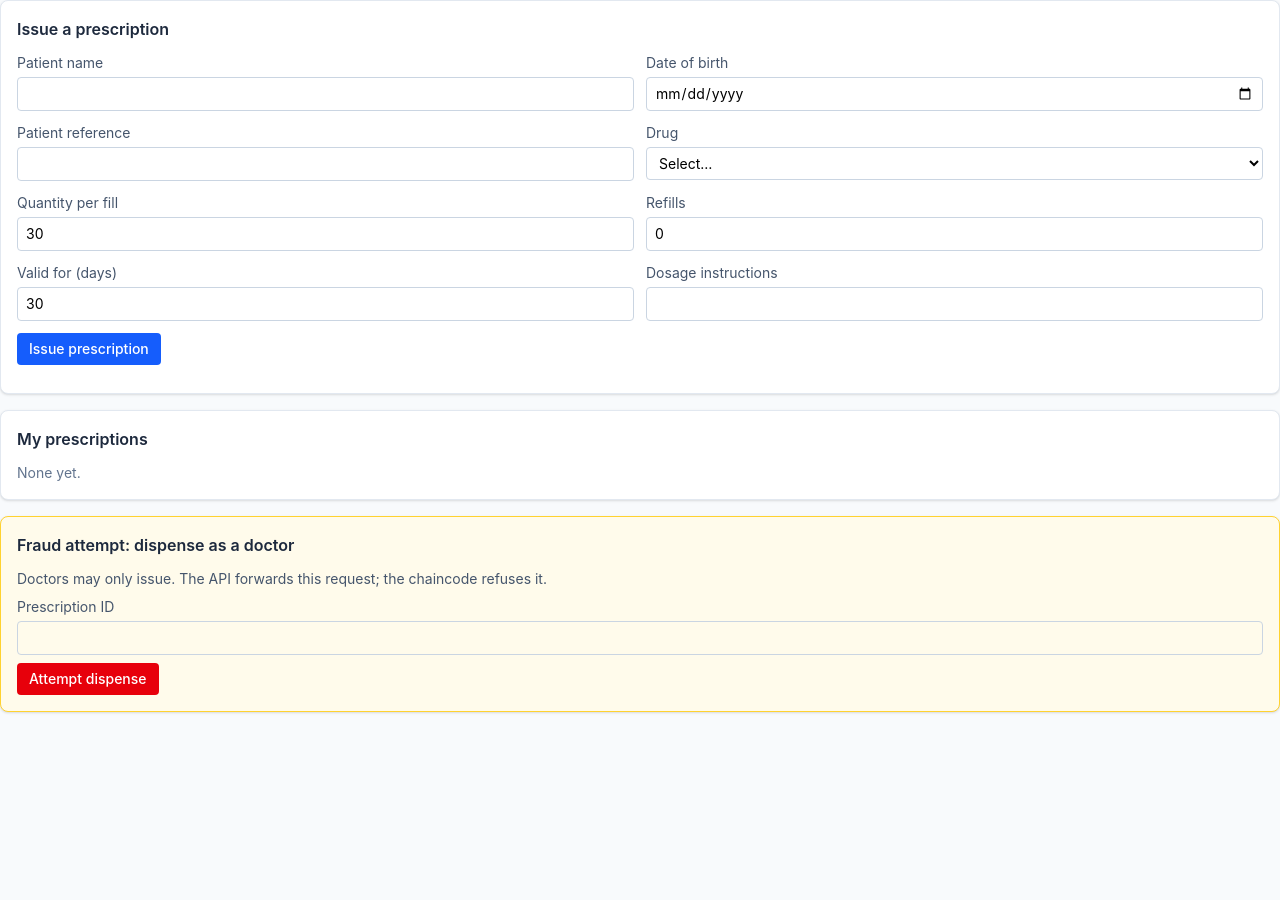
DoctorView › issues a prescription with numeric fields and shows the new ID
Select "Morphine sulfate 10 mg tablet — NDPS (max 0 refills)" in the dropdown labelled "Drug" at (954, 164), box [646,147,1263,180]
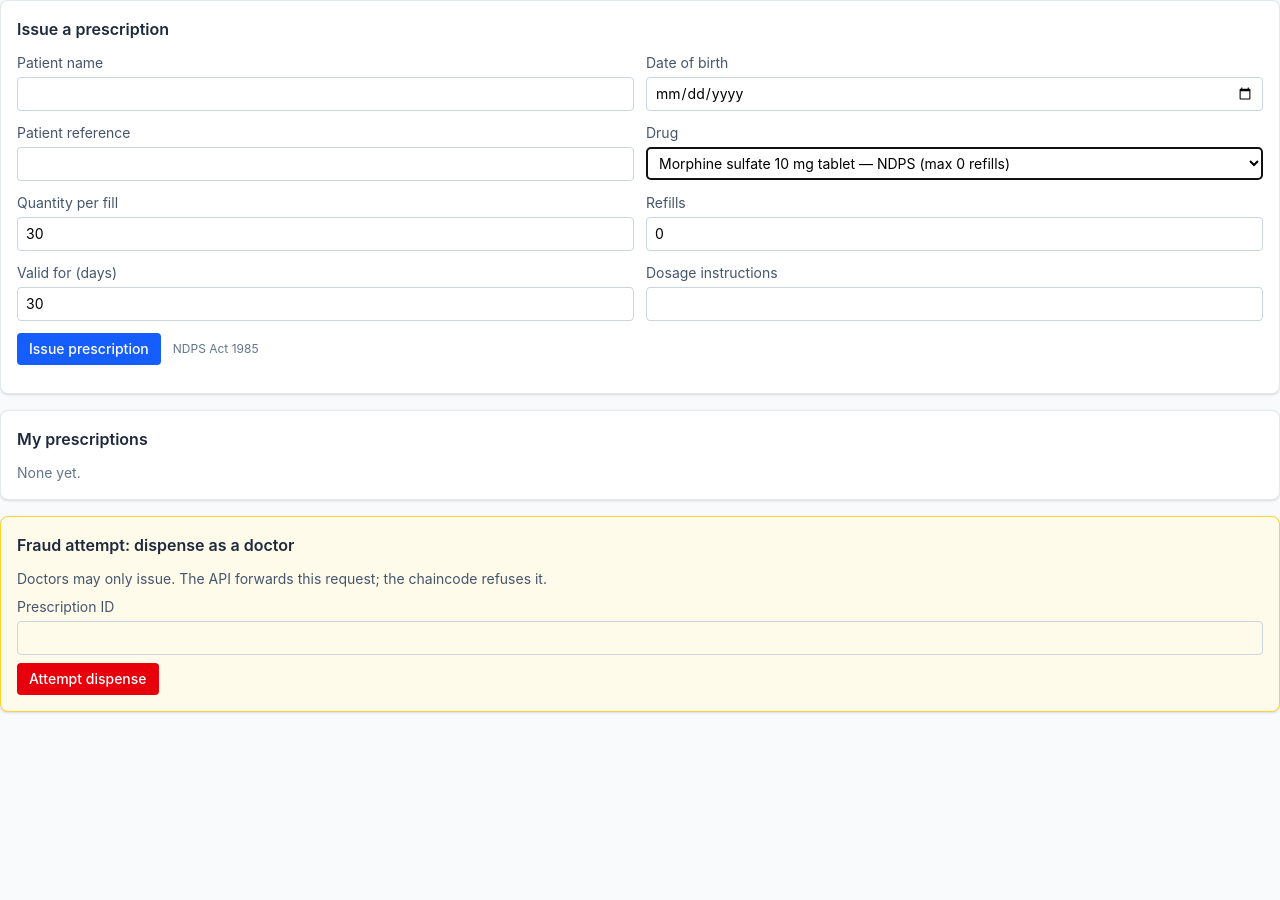
Type "Priya Sharma" into the field labelled "Patient name" at (326, 94), box [17,77,634,111]
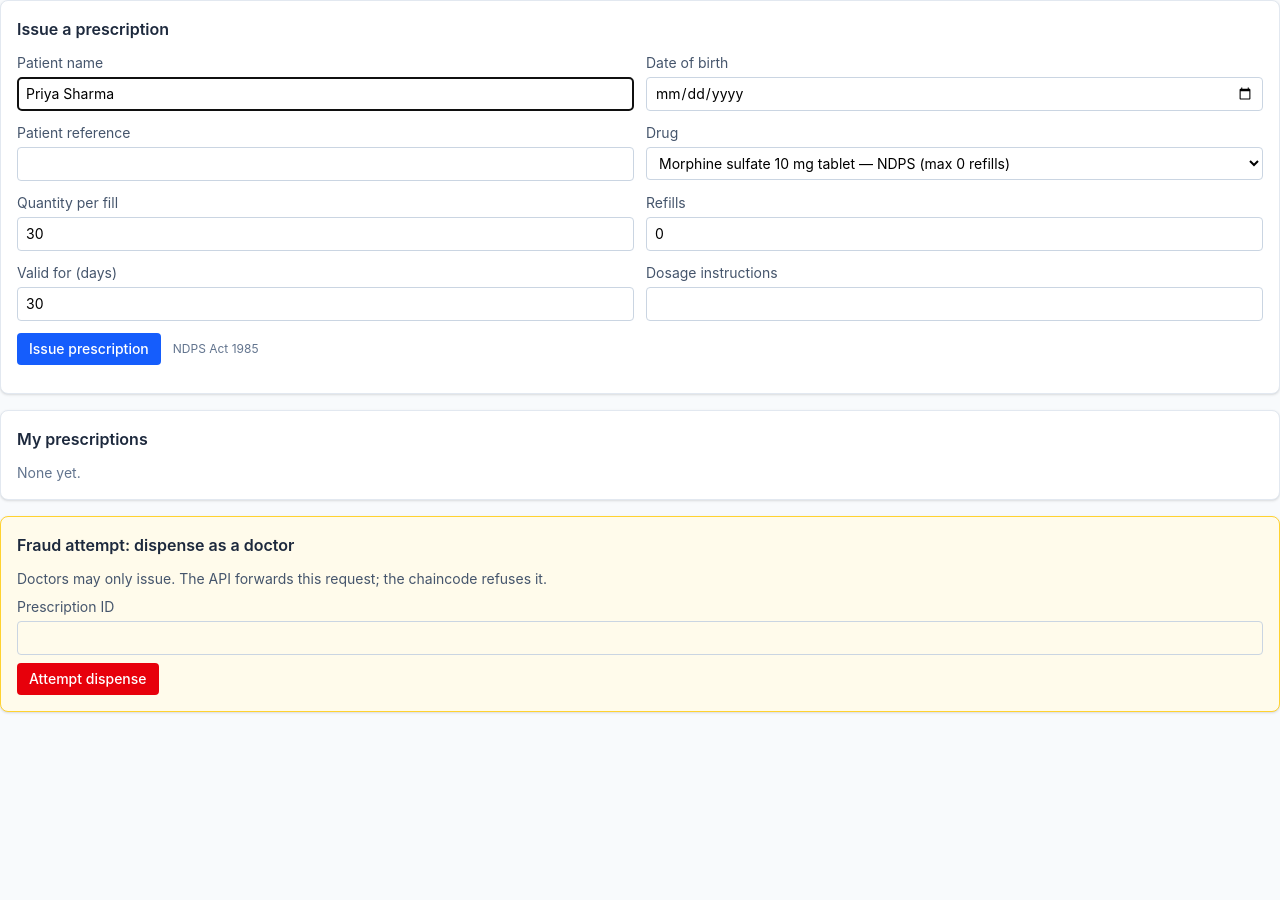
Type "1985-03-12" into the date field labelled "Date of birth" at (954, 94), box [646,77,1263,111]
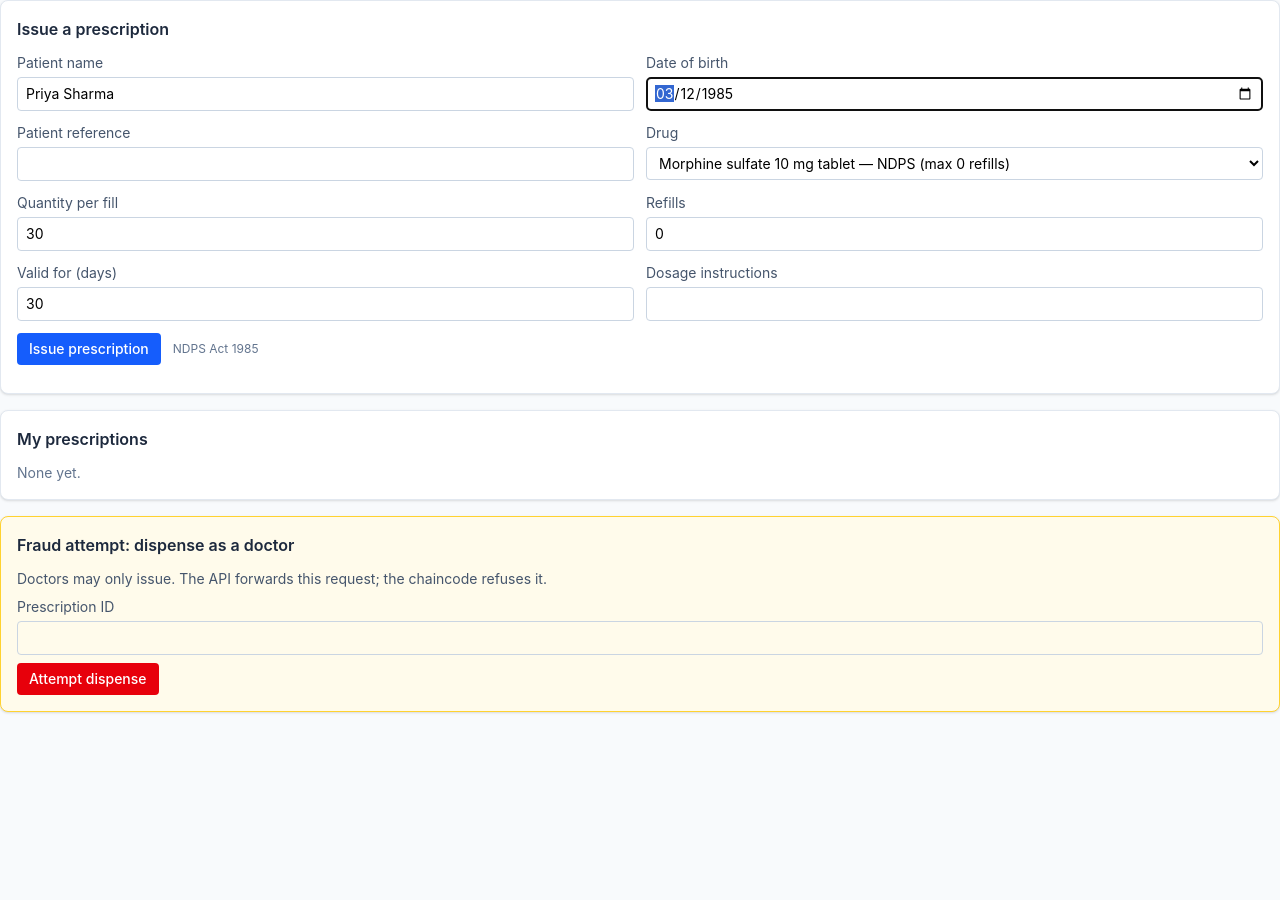
Type "PT-4471" into the field labelled "Patient reference" at (326, 164), box [17,147,634,181]
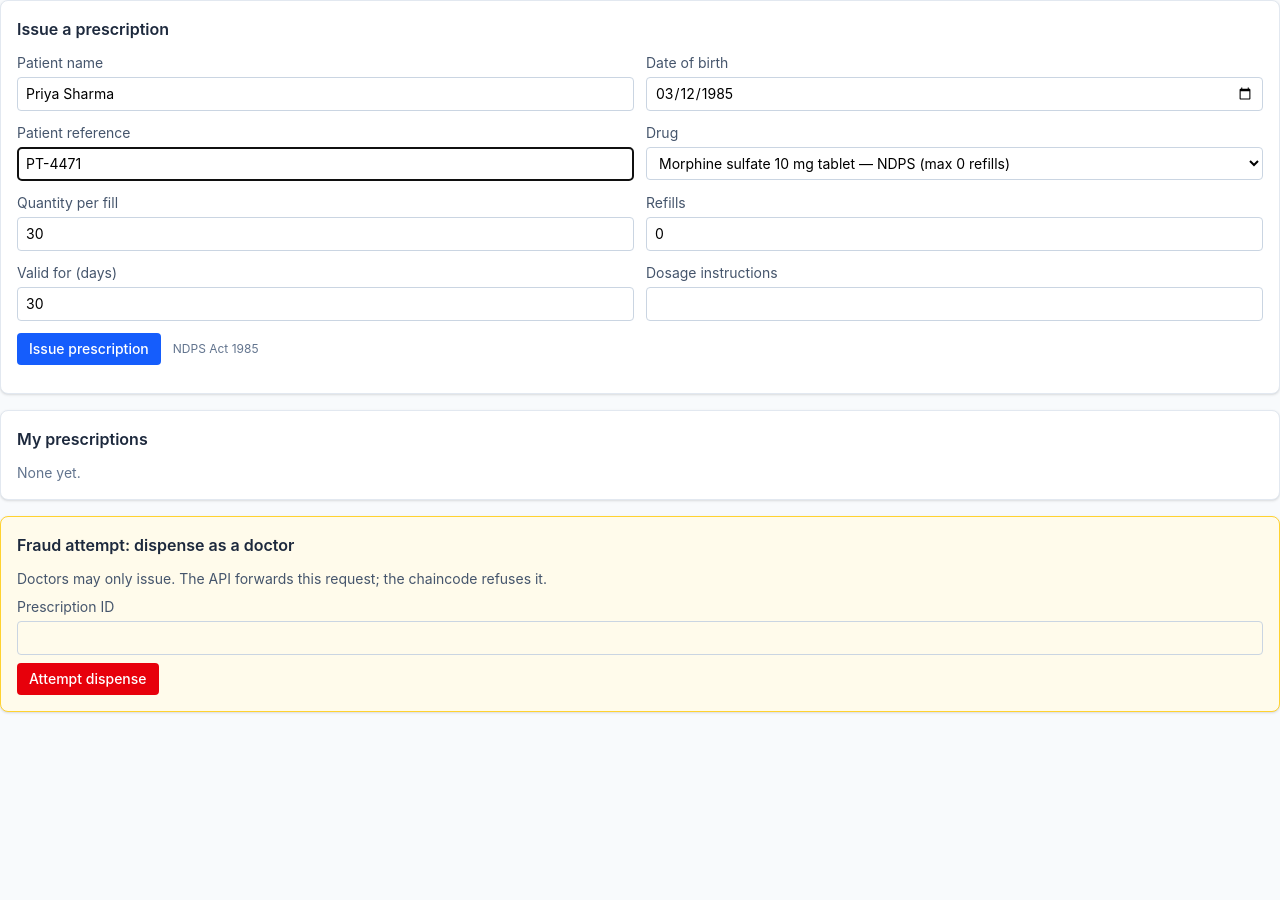
Type "1 tablet every 12 hours" into the field labelled "Dosage instructions" at (954, 304), box [646,287,1263,321]
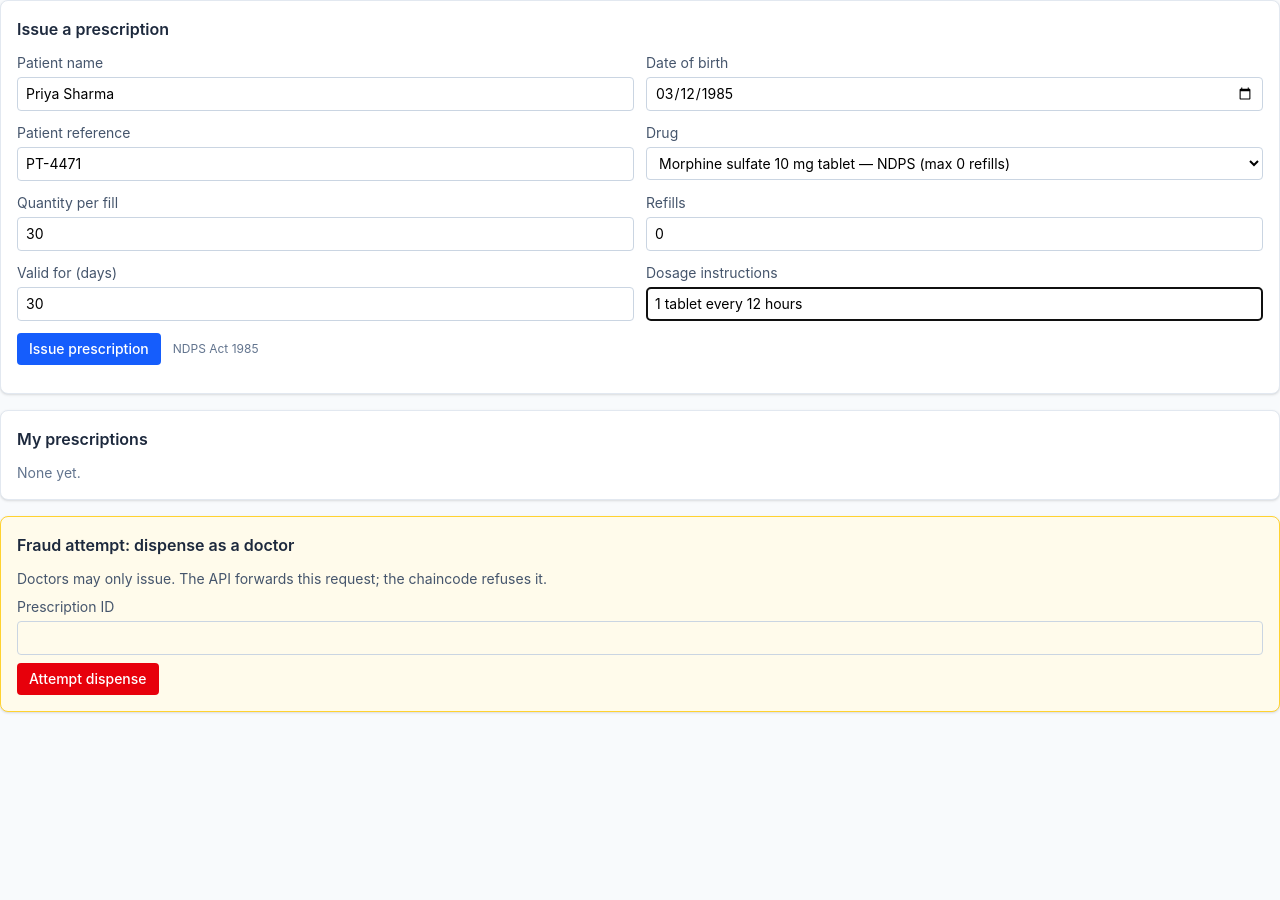
Click the button "Issue prescription" at (89, 349), box [17,333,161,365]
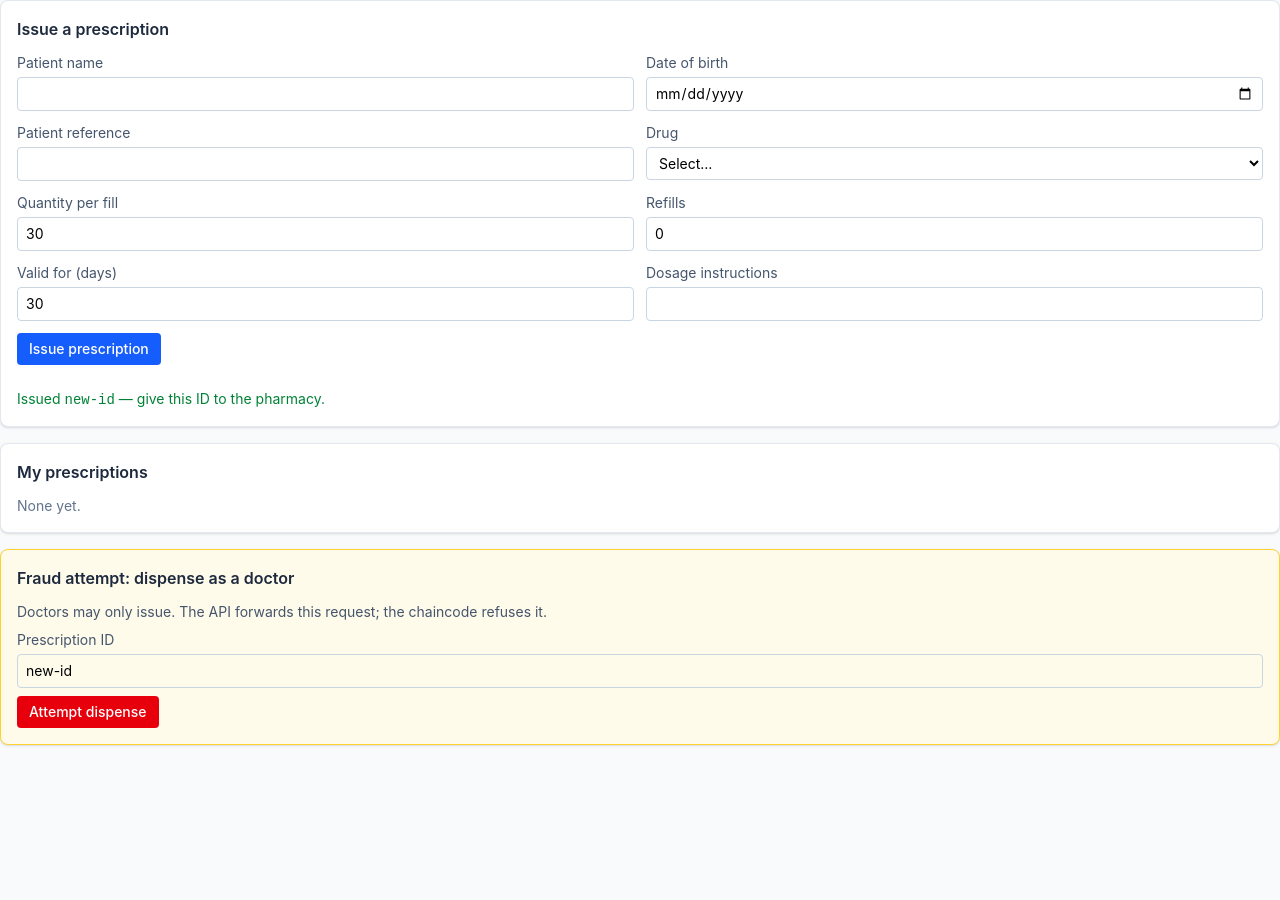
Result: the text "new-id" is shown at [64,392,115,408]
